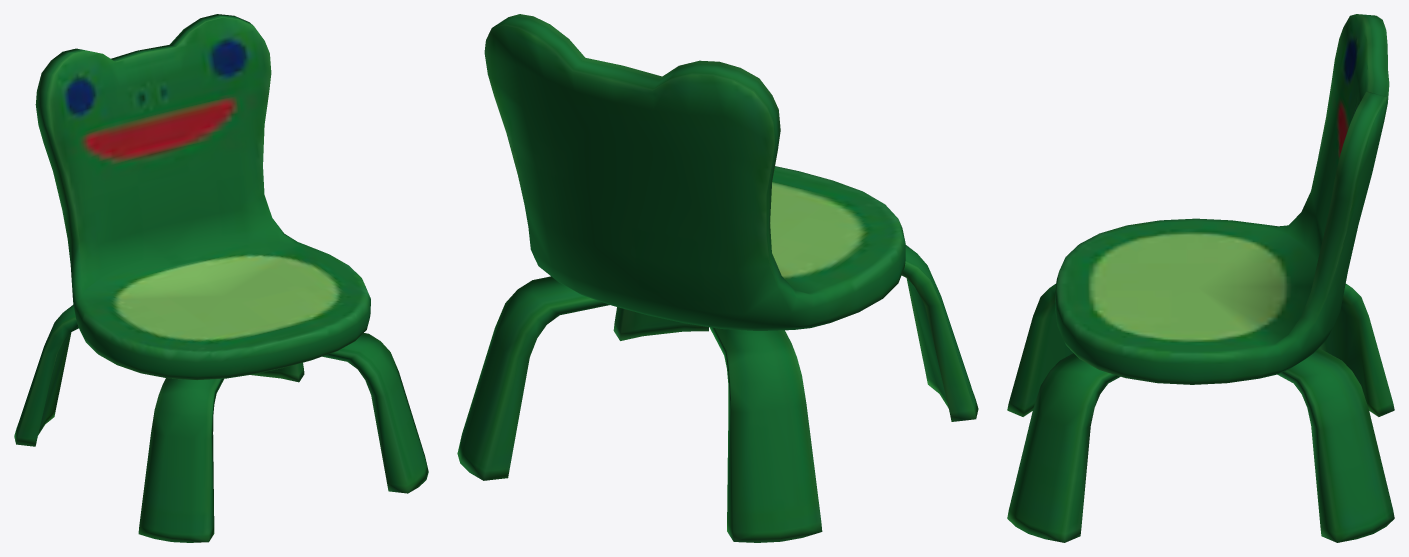
3 renders of one model, left to right at view 1: azimuth 30°, elevation 25°; view 2: azimuth 150°, elevation 25°; view 3: azimuth 270°, elevation 25°, orthographic. The views are drawn at different scales.
Size of the model in its own units: 7.09 by 8.58 by 7.41.
1 material, 1 textured.
